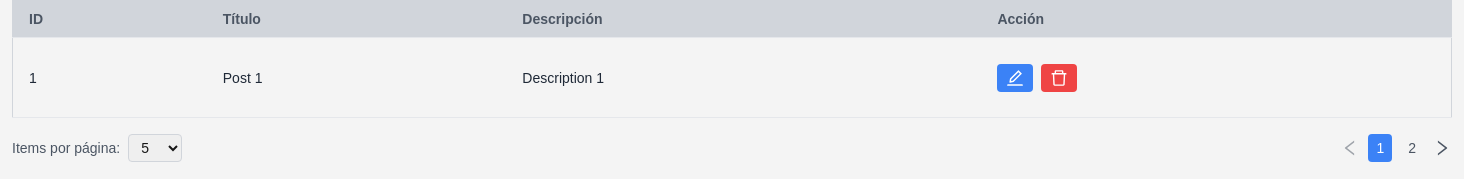
Test: handles page change
Check: the text "Post 1" is shown, box [207,38,506,118]
Step 1. Click the button named "Next Page" → (1442, 148), box [1432,138,1452,158]
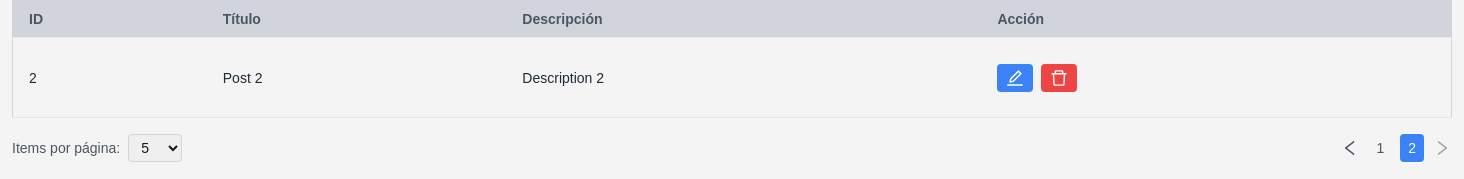
Check: the text "Post 2" is shown, box [207,38,506,118]
